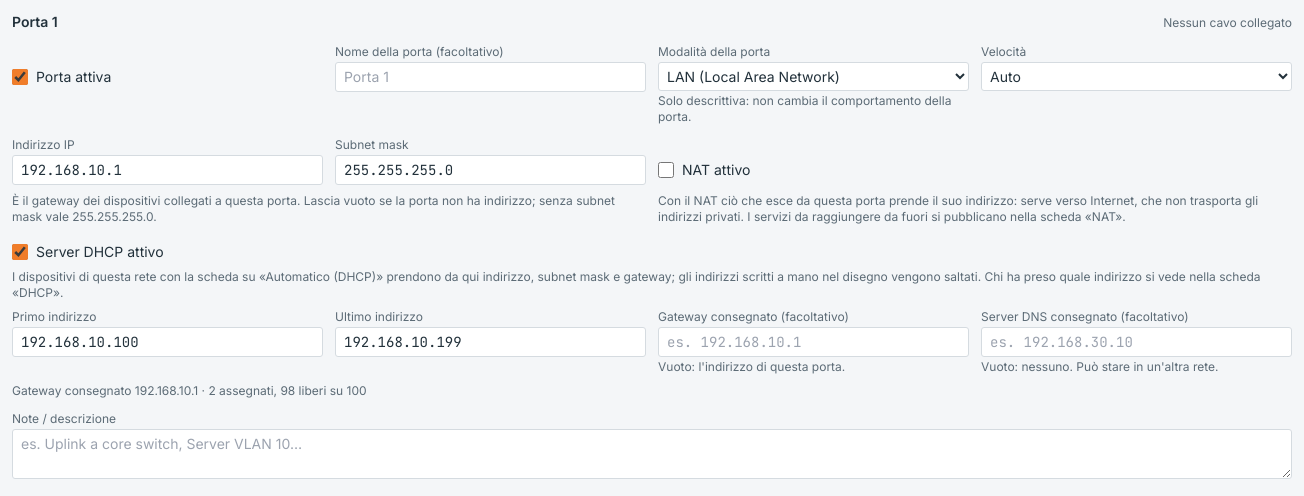
Test: PortEditor — the DHCP server of a port › says what the range gave out when the window knows it, and not while something is wrong
Expected: the text "Gateway consegnato 192.168.10.1 · 2 assegnati, 98 liberi su 100" is shown, [12,383,366,398]
Replace the text in the field labelled "Ultimo indirizzo" with "x" at (490, 342), box [335,327,646,357]
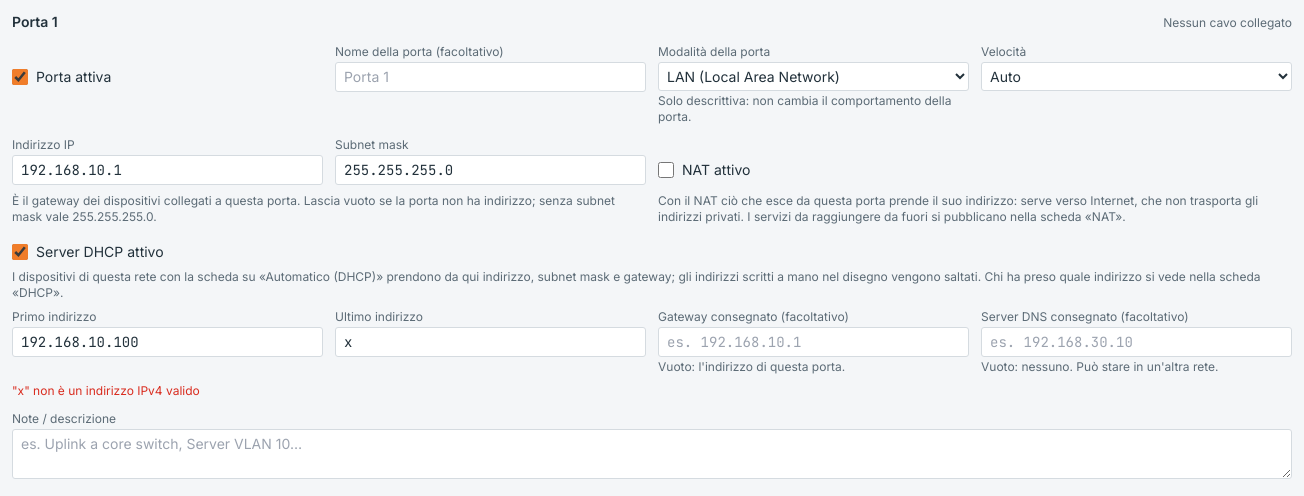
Expected: the text "Gateway consegnato 192.168.10.1 · 2 assegnati, 98 liberi su 100" is gone
